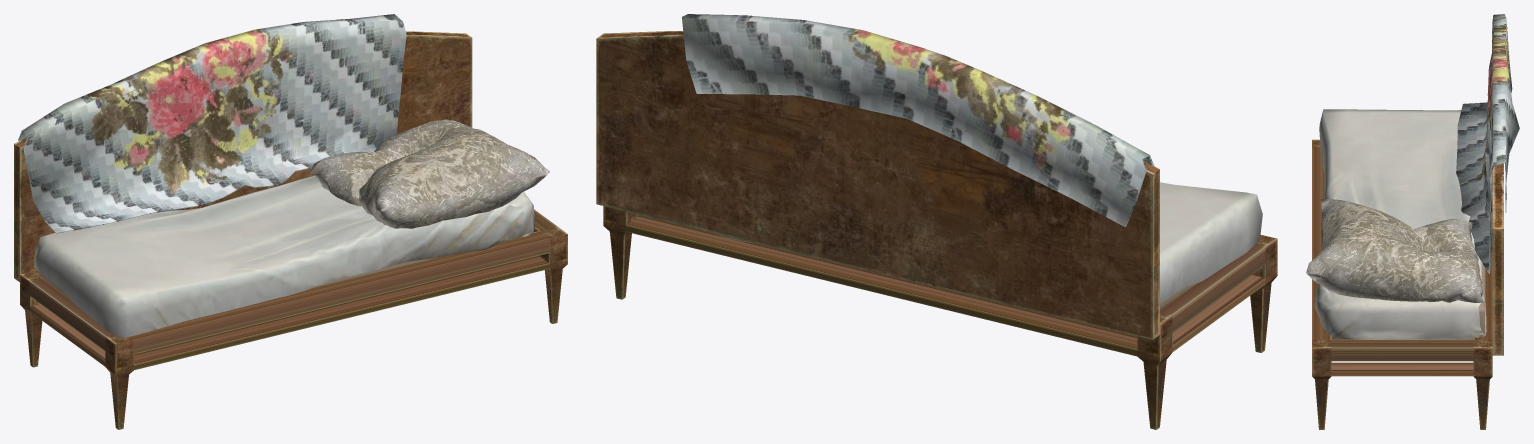
Rendered from vintage_day_bed.glb.
3 views of the same model, side by side, from view 1: azimuth 30°, elevation 25°; view 2: azimuth 150°, elevation 25°; view 3: azimuth 270°, elevation 25° (orthographic). The views are drawn at different scales.
Visible parts, largest first — view 1: vintage_day_bed; view 2: vintage_day_bed; view 3: vintage_day_bed.
Part boxes in pixels (x1,y1,x2,y2): vintage_day_bed: [14, 14, 567, 429]; vintage_day_bed: [596, 14, 1277, 429]; vintage_day_bed: [1306, 14, 1519, 429].
Bounding box in the file's own units: 1.97 × 1.13 × 0.8548.
1 material, 1 textured.
